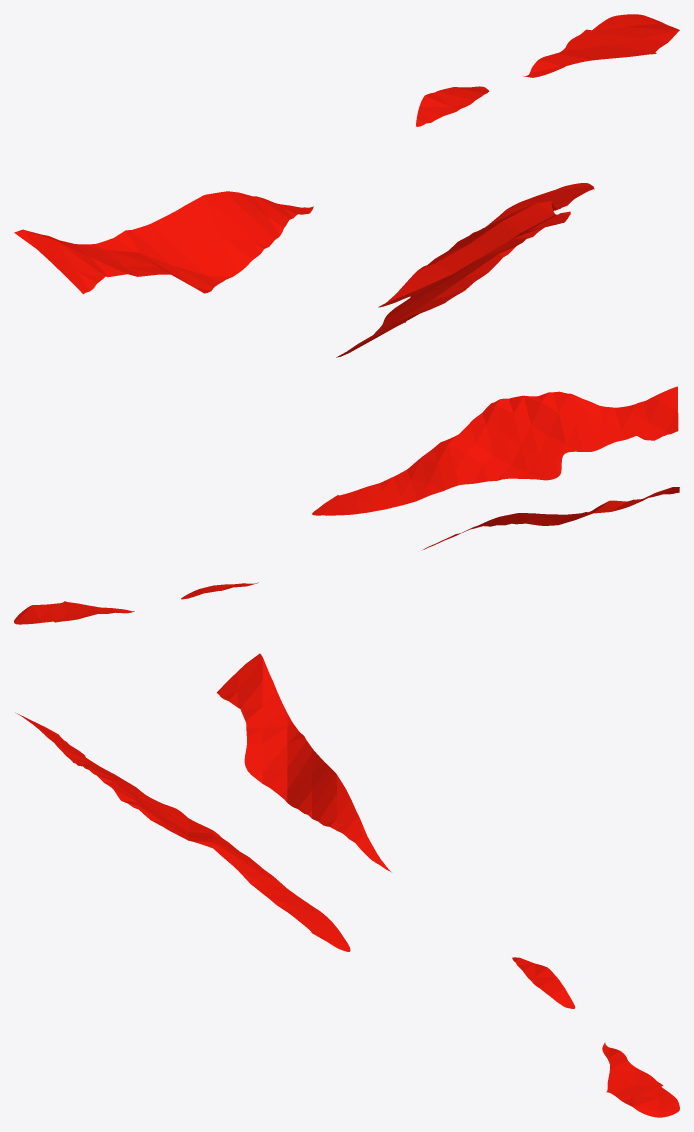
File: 9_Ribbons 3 (7).dae
The picture shows the model from 3 angles, top to bottom: view 1: azimuth 30°, elevation 25°; view 2: azimuth 150°, elevation 25°; view 3: azimuth 270°, elevation 25°; orthographic projection. The views are drawn at different scales.
Parts seen in each view (by area): view 1: Object (×4); view 2: Object (×4); view 3: Object (×4).
Part boxes in pixels (x1,y1,x2,y2): Object (×4): (14, 14, 679, 357); Object (×4): (14, 386, 679, 624); Object (×4): (15, 653, 679, 1117).
Bounding box in the file's own units: 24.71 × 6.42 × 23.18.
